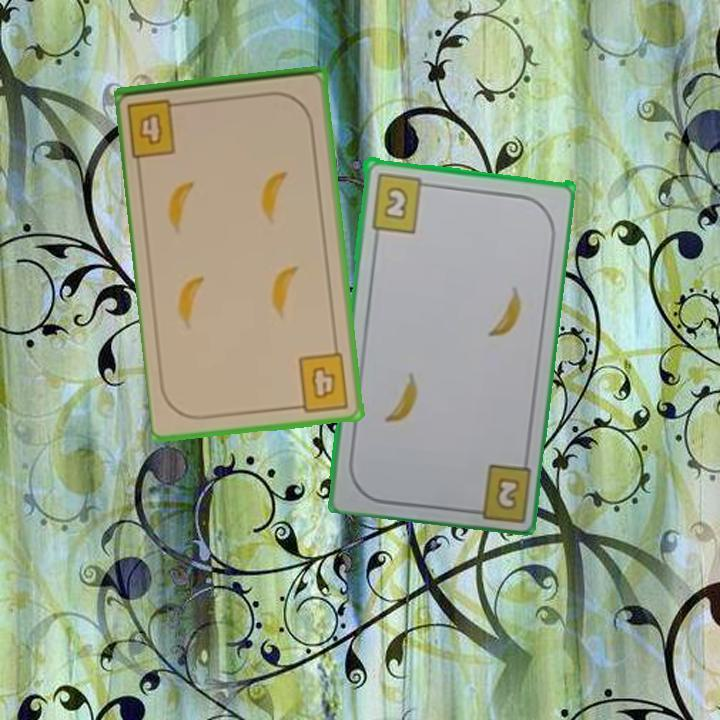2b: (367, 169, 434, 235), (493, 473, 522, 510)
4b: (124, 95, 189, 160), (290, 349, 352, 415)
